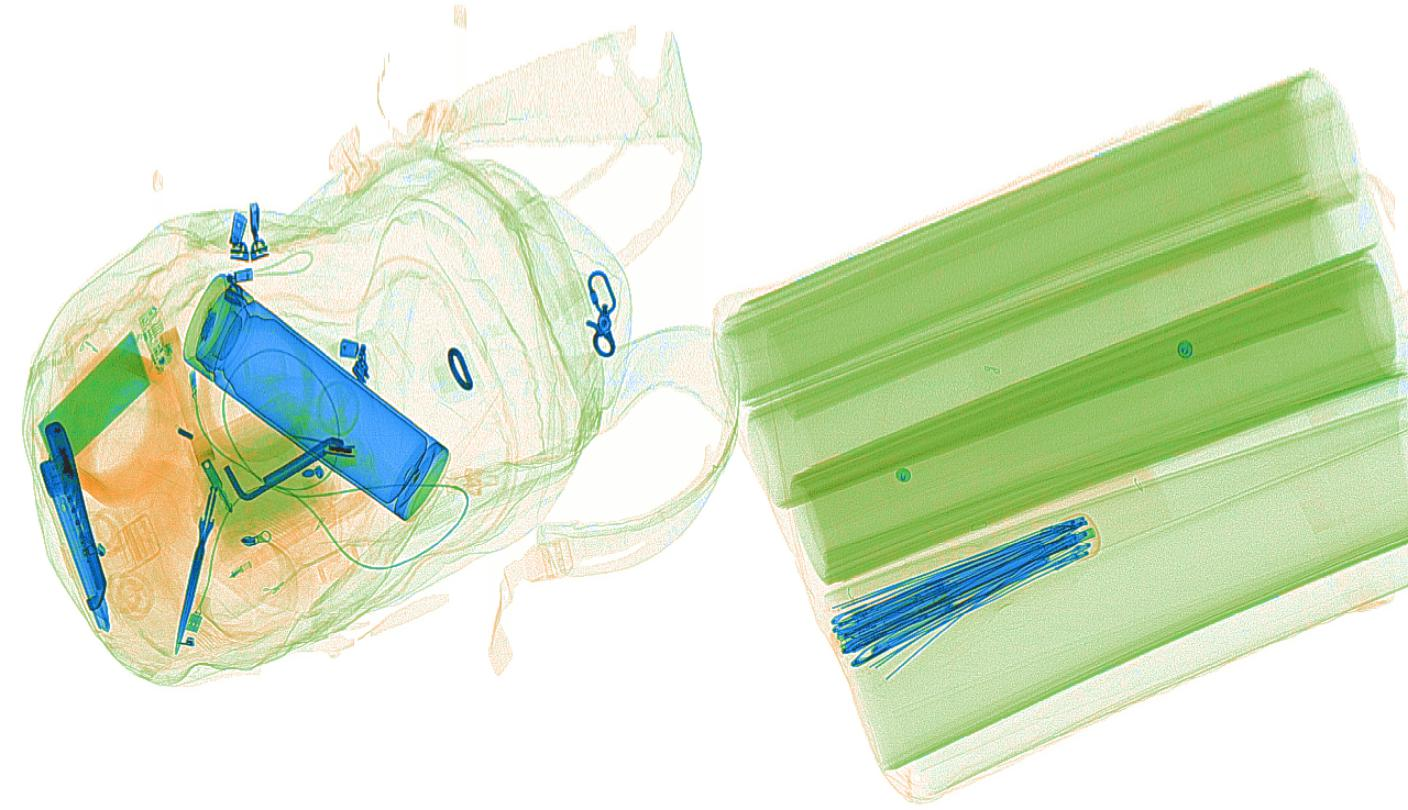knife: (40, 424, 118, 639)
scissors: (171, 458, 240, 656)
